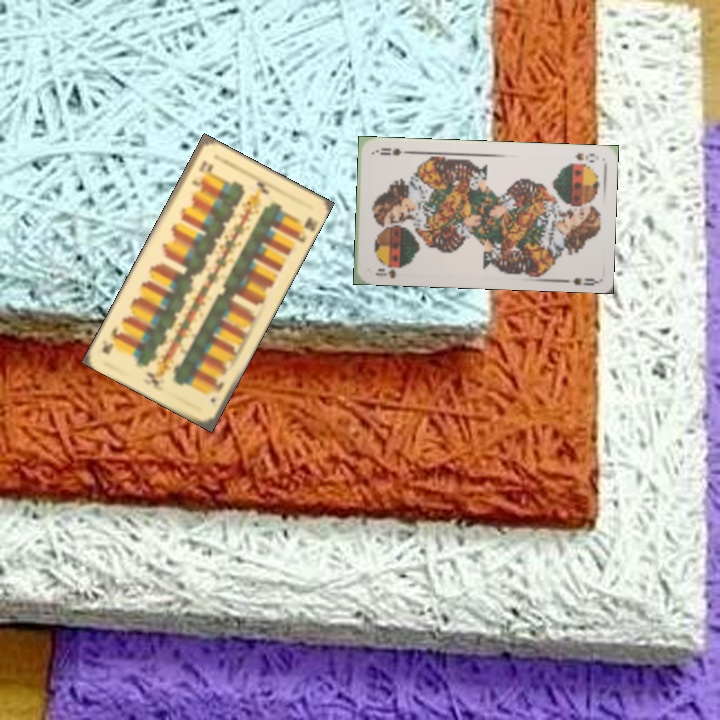E10: (188, 157, 213, 189), (206, 375, 227, 406)
SO: (371, 265, 398, 280), (572, 149, 597, 165)
